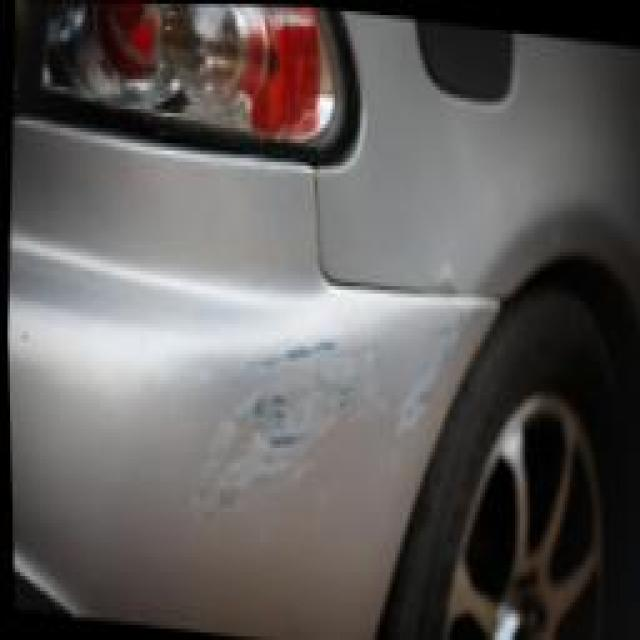Bumper: (160, 264, 478, 566)
